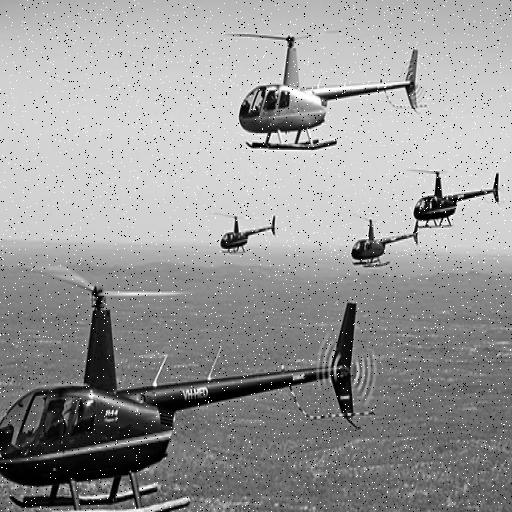helicopter: (1, 271, 380, 512), (227, 17, 428, 158), (408, 164, 508, 232), (341, 209, 423, 280), (212, 202, 283, 268)
